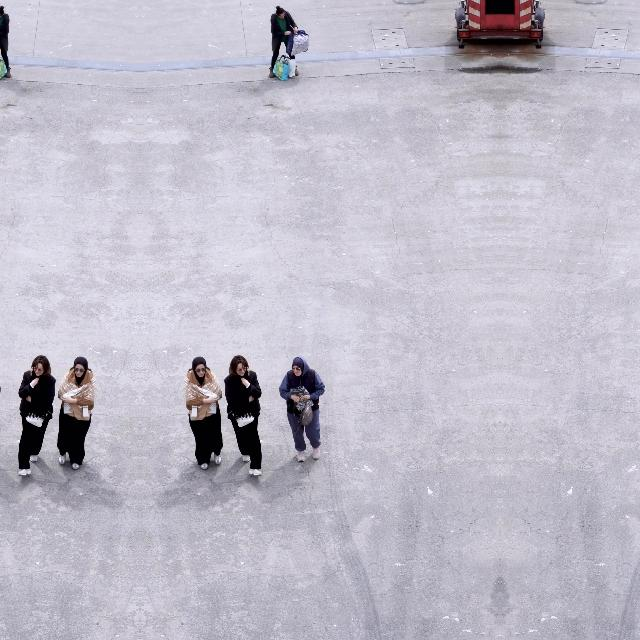person: (279, 356, 325, 462), (224, 356, 262, 476), (18, 356, 56, 476), (184, 356, 223, 470), (56, 356, 95, 470), (269, 6, 299, 78), (0, 5, 11, 78), (0, 356, 1, 461)
